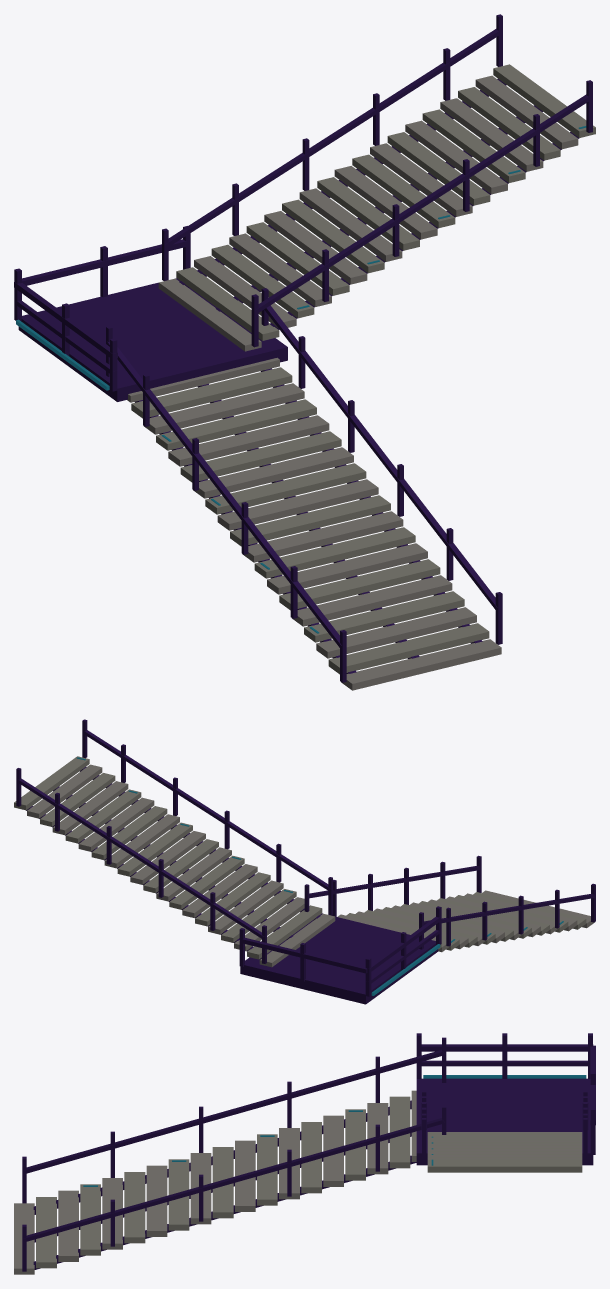
The model's file is env_base99_stair_l_z5_visual_top3d_v002.glb.
3 views of the same model, one above another, from view 1: azimuth 30°, elevation 25°; view 2: azimuth 150°, elevation 25°; view 3: azimuth 270°, elevation 25° (orthographic). The views are drawn at different scales.
Visible parts, largest first — view 1: L型楼梯_主体_金属哑光反光, L型楼梯_UI灯光_柔和自发光; view 2: L型楼梯_主体_金属哑光反光, L型楼梯_UI灯光_柔和自发光; view 3: L型楼梯_主体_金属哑光反光, L型楼梯_UI灯光_柔和自发光.
Boxes of the visible parts, x1,y1,x2,y2 form: L型楼梯_主体_金属哑光反光: (14, 14, 595, 690); L型楼梯_UI灯光_柔和自发光: (16, 126, 586, 633); L型楼梯_主体_金属哑光反光: (14, 719, 595, 1004); L型楼梯_UI灯光_柔和自发光: (77, 757, 563, 995); L型楼梯_主体_金属哑光反光: (14, 1033, 595, 1274); L型楼梯_UI灯光_柔和自发光: (83, 1075, 586, 1186).
Size of the model in its own units: 9.22 by 5.91 by 10.54.
3 materials, 3 textured.
